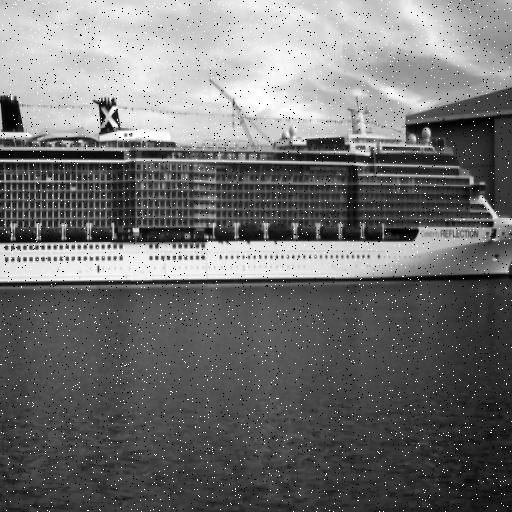cruises: (1, 88, 512, 294)
